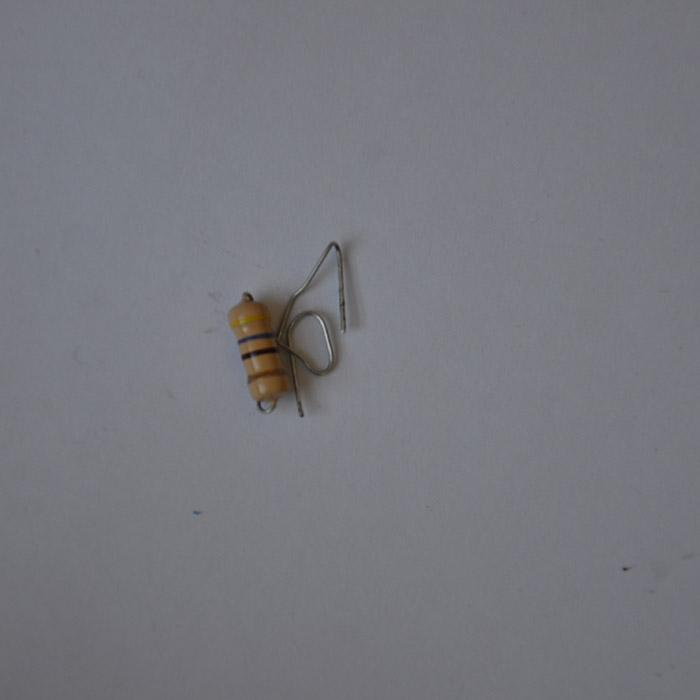resistor: (227, 292, 289, 407)
